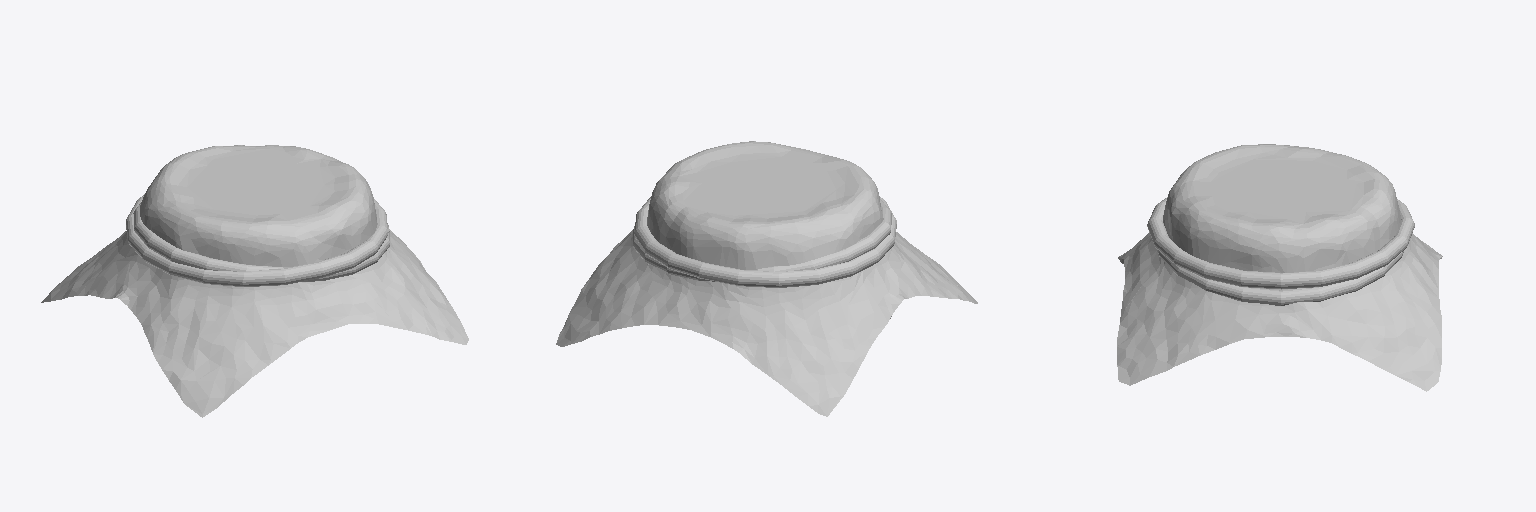
The model's file is Pot6Lid.obj.
The picture shows the model from 3 angles: view 1: azimuth 30°, elevation 25°; view 2: azimuth 150°, elevation 25°; view 3: azimuth 270°, elevation 25°; orthographic projection.
Visible parts, largest first — view 1: Pot6Lid; view 2: Pot6Lid; view 3: Pot6Lid.
Boxes of the visible parts, x1=… form: Pot6Lid: x1=41, y1=145, x2=468, y2=417; Pot6Lid: x1=556, y1=141, x2=977, y2=416; Pot6Lid: x1=1117, y1=144, x2=1442, y2=391.
Bounding box in the file's own units: 1.39 × 0.6776 × 1.38.